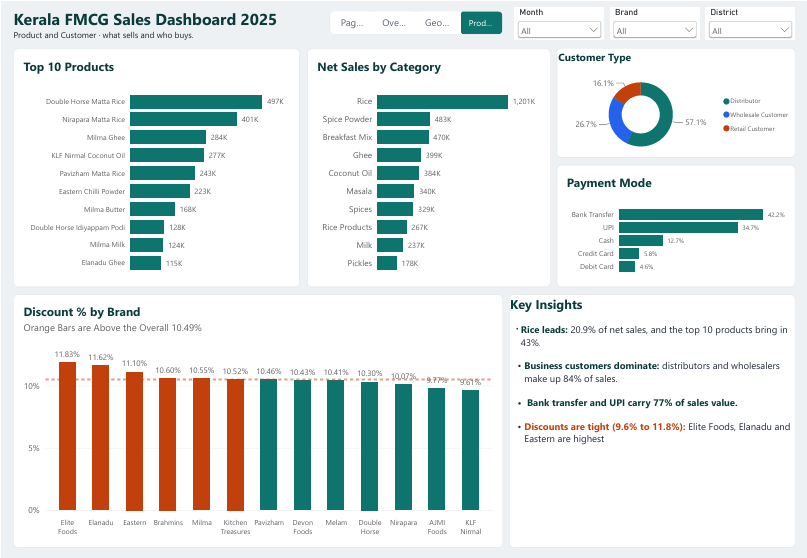

This screenshot's page, from the dashboard's own definition file:
{"tool":"powerbi","page":{"name":"Products","canvas":[1350,935],"ordinal":2},"visuals":[{"type":"textbox","box":[20,10,520,62],"z":0},{"type":"slicer","fields":{"Values":["Dim_Date.Month"]},"box":[860,10,150,54],"z":1000},{"type":"slicer","fields":{"Values":["Sales.Brand"]},"box":[1020,10,150,54],"z":2000},{"type":"slicer","title":"District","fields":{"Values":["Sales.District"]},"box":[1180,10,150,54],"z":3000},{"type":"pageNavigator","box":[550,16.2,290,40],"z":4000},{"type":"barChart","title":"Top 10 Products by Net Sales","fields":{"Category":["Sales.Product"],"Y":["Sales.Total Net Sales"]},"box":[20,78.6,480,400],"z":5000},{"type":"barChart","title":"Top 10 Category by Net Sales","fields":{"Category":["Sales.Category"],"Y":["Sales.Net Sales Whole"]},"box":[511.8,78.9,407.9,400],"z":6000},{"type":"donutChart","title":"Customer Type","fields":{"Category":["Sales.Customer_Type"],"Y":["Sales.Total Net Sales"]},"box":[930,77.9,400,184.3],"z":7000},{"type":"clusteredColumnChart","title":"Discount % by Brand","fields":{"Category":["Sales.Brand"],"Y":["Sales.Discount %"]},"box":[20,491.4,820,424.3],"z":8000},{"type":"clusteredBarChart","title":"Payment Mode","fields":{"Category":["Sales.Payment_Mode"],"Y":["Sales.Total Net Sales"]},"box":[930,273.6,400,205.7],"z":9000},{"type":"textbox","title":"Key Insights","box":[851.4,491.4,478.6,424.3],"z":10000}]}

Visuals, with their boxes in screenshot pixels (x1, y1, x2, y2), scaled from the page's 1350x935 canvas onto the 807x558 screenshot:
textbox: x1=12, y1=6, x2=323, y2=43
slicer - Dim_Date.Month: x1=514, y1=6, x2=604, y2=38
slicer - Sales.Brand: x1=610, y1=6, x2=699, y2=38
"District" slicer: x1=705, y1=6, x2=795, y2=38
pageNavigator: x1=329, y1=10, x2=502, y2=34
"Top 10 Products by Net Sales" barChart: x1=12, y1=47, x2=299, y2=286
"Top 10 Category by Net Sales" barChart: x1=306, y1=47, x2=550, y2=286
"Customer Type" donutChart: x1=556, y1=46, x2=795, y2=156
"Discount % by Brand" clusteredColumnChart: x1=12, y1=293, x2=502, y2=546
"Payment Mode" clusteredBarChart: x1=556, y1=163, x2=795, y2=286
"Key Insights" textbox: x1=509, y1=293, x2=795, y2=546
